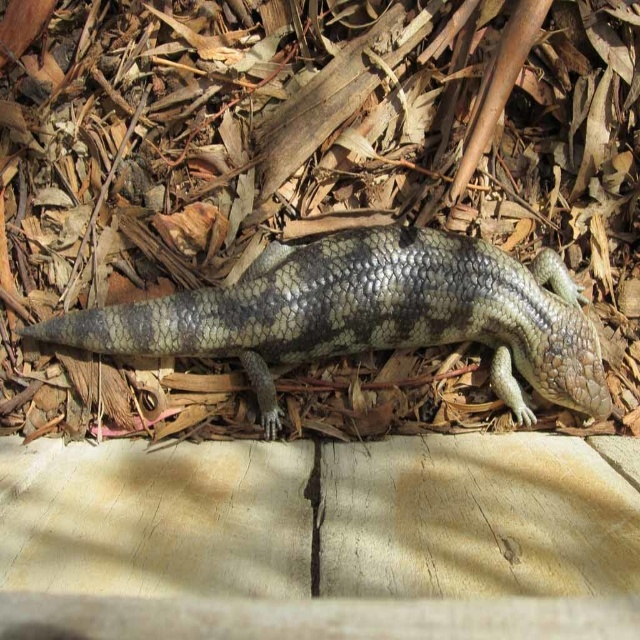Lizard: (14, 225, 613, 440)
